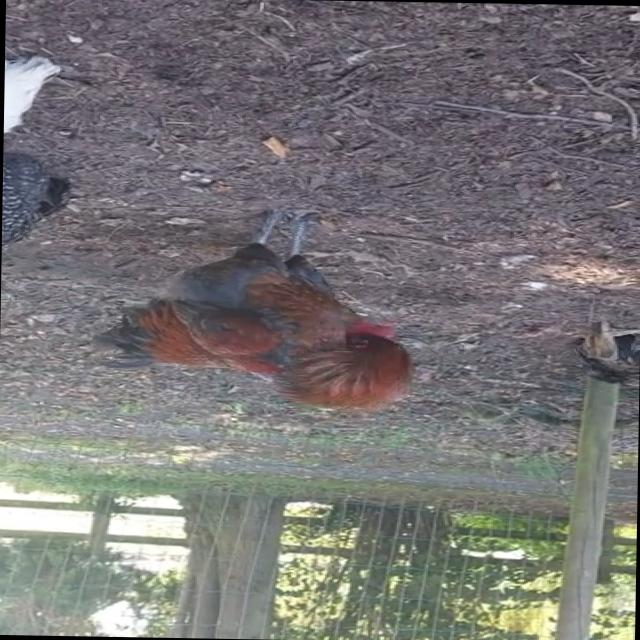self preening: (80, 210, 436, 444)
